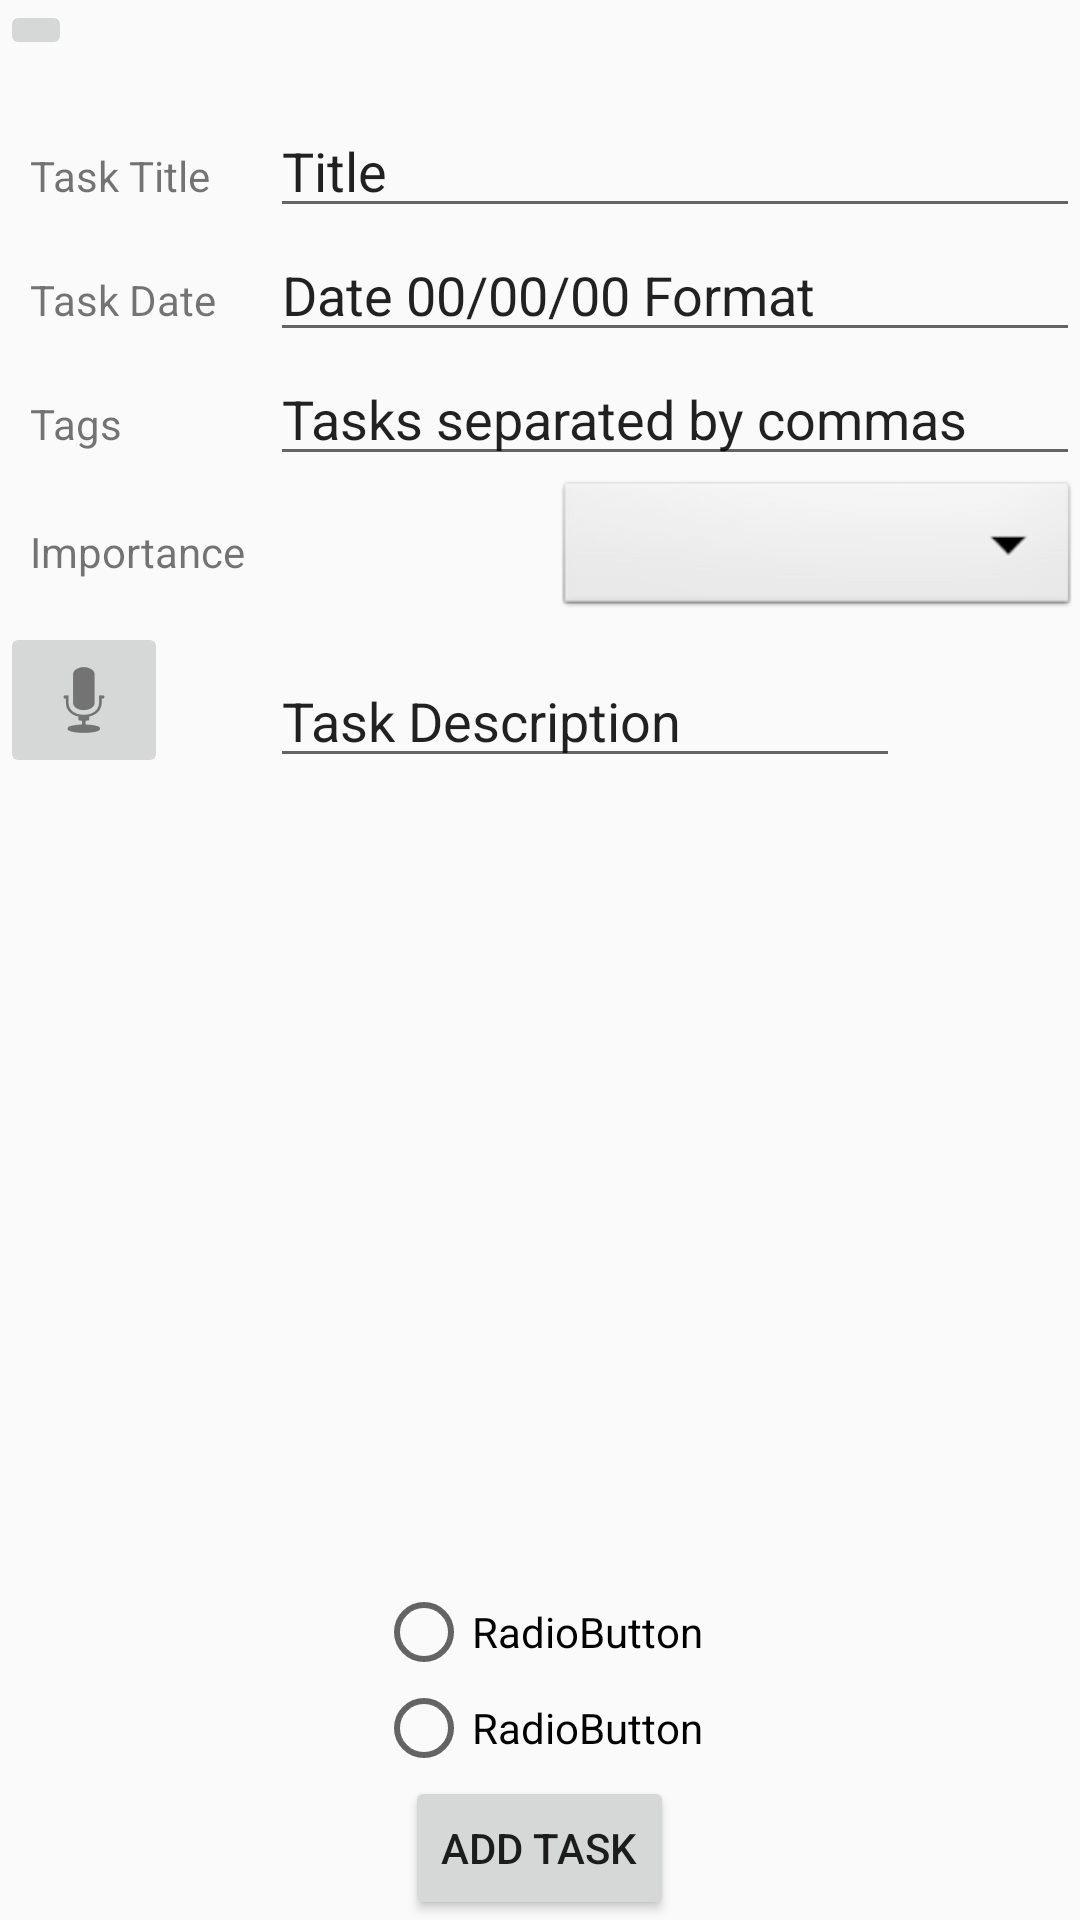

Where icons sit on this 1080 × 1920 app screen, as (x1, y1, x2, y2):
speak now: (12, 640, 156, 760)
